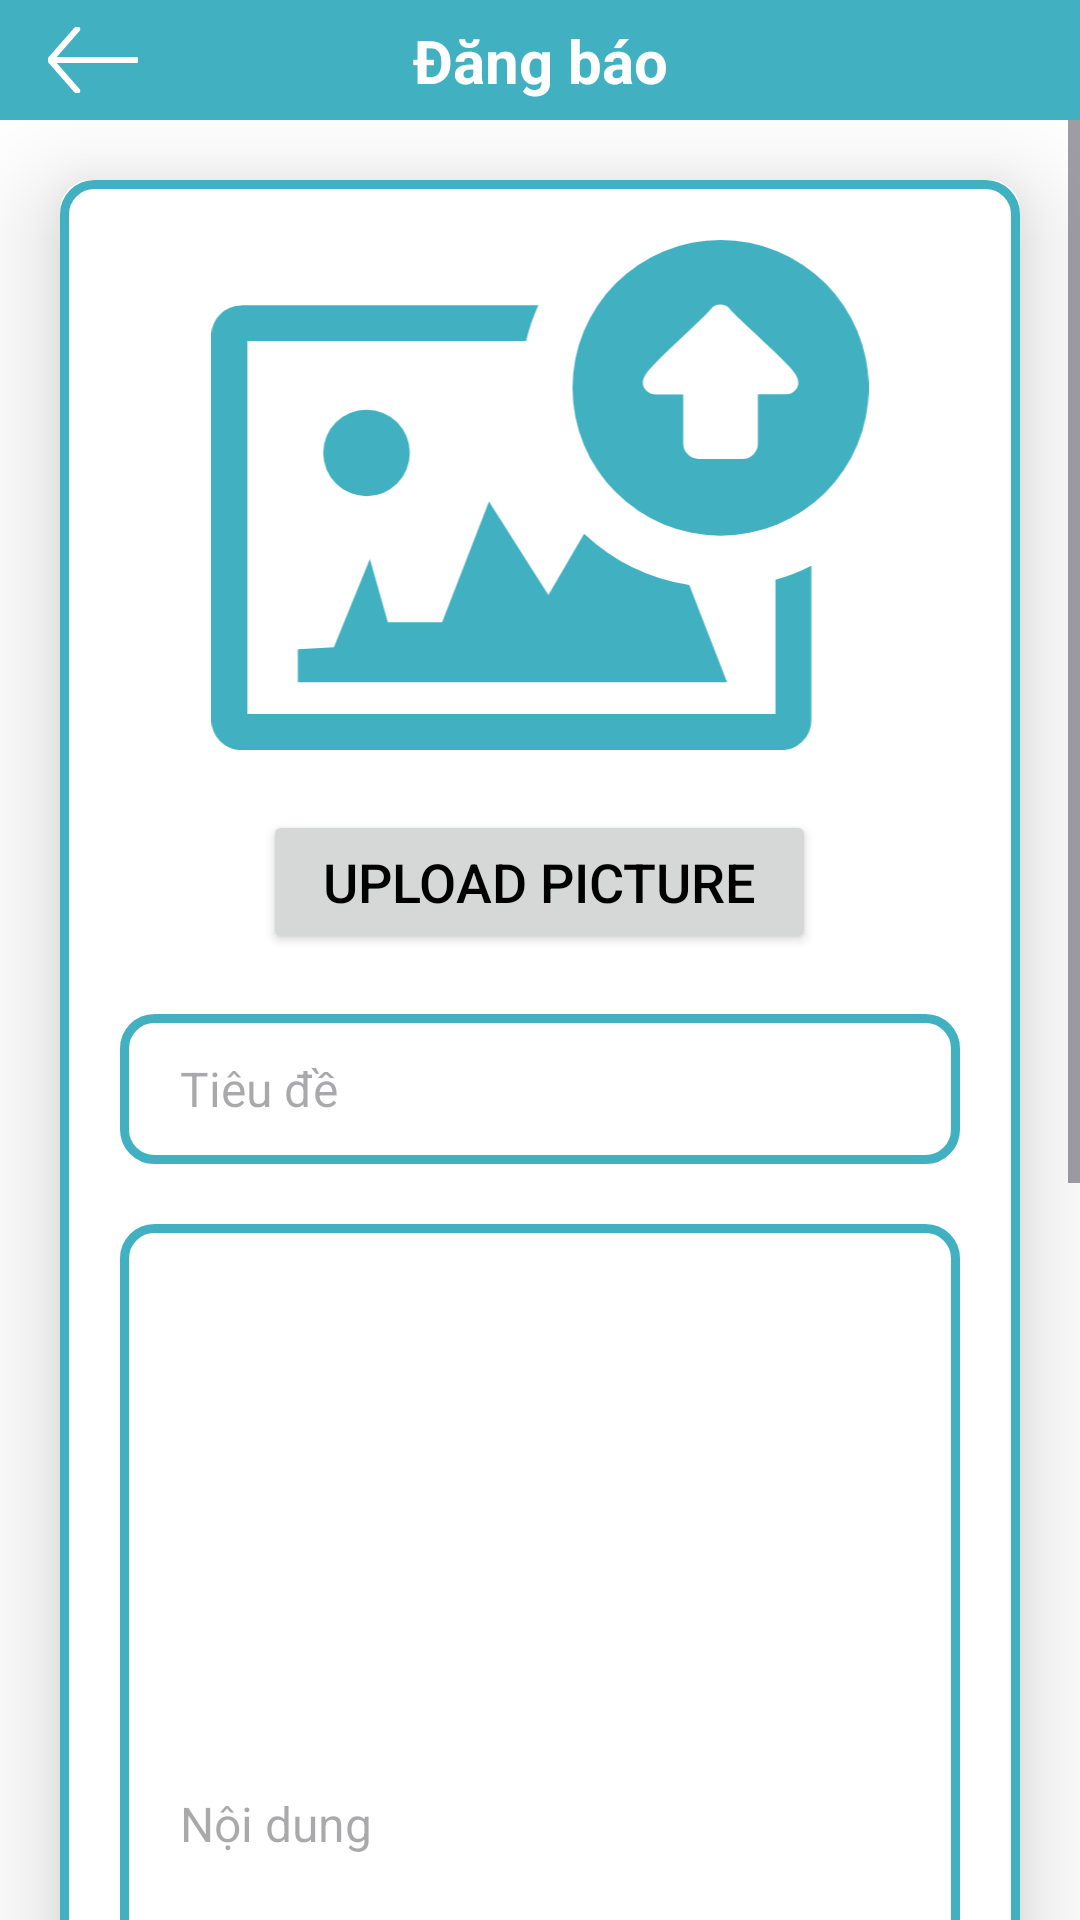

Screen size 1080×1920. Icon name, then its box in pixels as (x1, y1, x2, y2):
back arrow: (48, 27, 138, 93)
